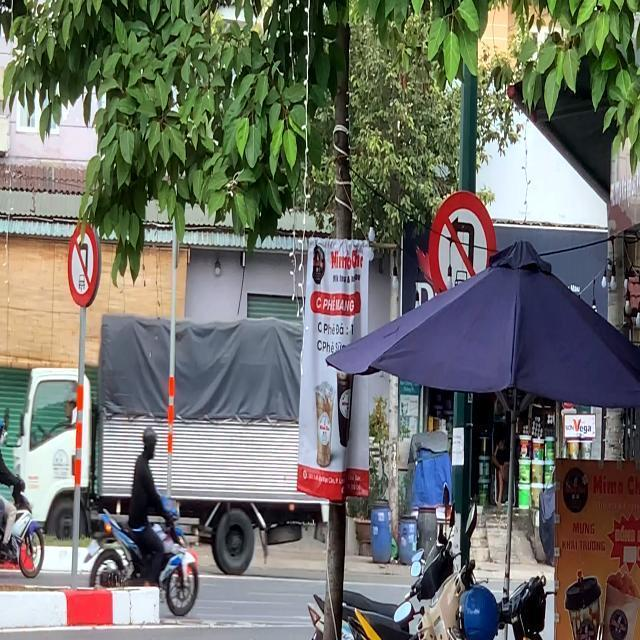123a-cam-re-trai: (427, 192, 497, 308), (65, 225, 99, 306)
